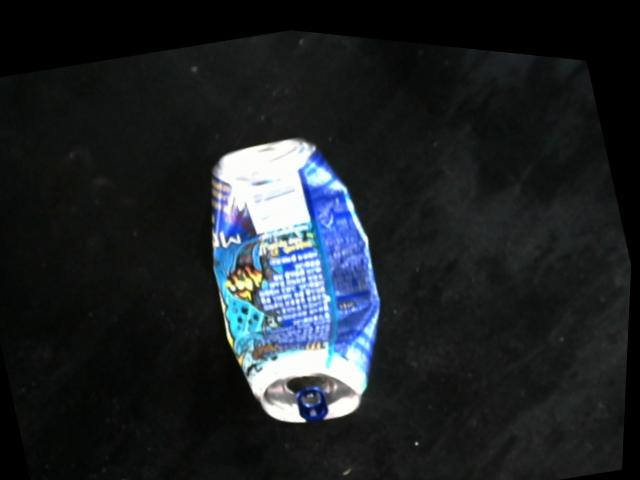can: (201, 121, 391, 432)
